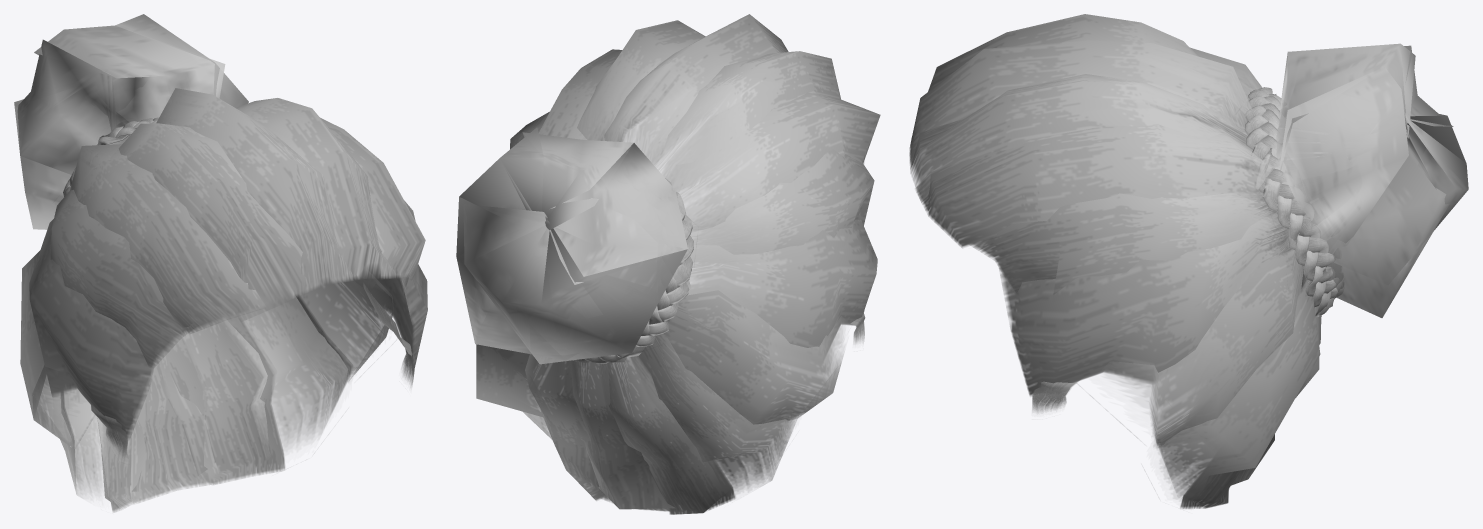
Rendered from daz_hair_bow_bun_braids.glb.
The picture shows the model from 3 angles, left to right: view 1: azimuth 30°, elevation 25°; view 2: azimuth 150°, elevation 25°; view 3: azimuth 270°, elevation 25°; orthographic projection. The views are drawn at different scales.
Visible parts, largest first — view 1: daz_hair_bow_bun_braids; view 2: daz_hair_bow_bun_braids; view 3: daz_hair_bow_bun_braids.
Part boxes in pixels (box(x1,y1,x2,y2)): daz_hair_bow_bun_braids: box(14, 14, 427, 512); daz_hair_bow_bun_braids: box(456, 14, 880, 514); daz_hair_bow_bun_braids: box(909, 14, 1468, 508).
Bounding box in the file's own units: 0.1696 × 0.1935 × 0.2198.
1 material, 1 textured.
